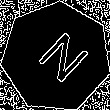N_SW: (25, 25, 87, 89)
